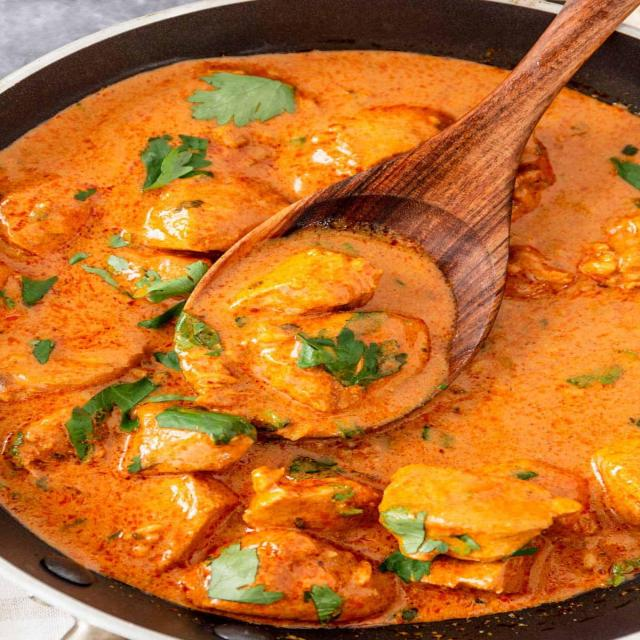chicken: (18, 54, 640, 616)
